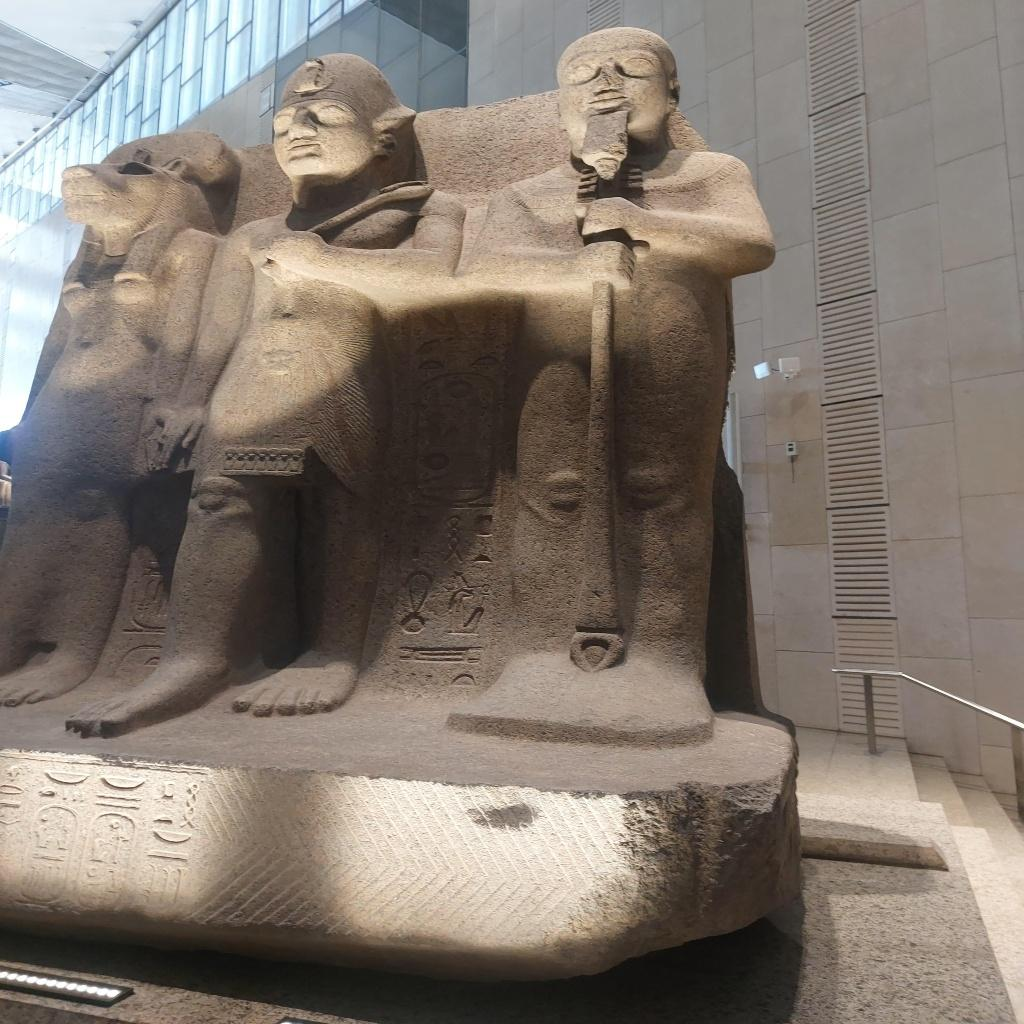Statue of God Ptah Ramesses ll Goddess Sekhmet: (0, 24, 776, 746)
